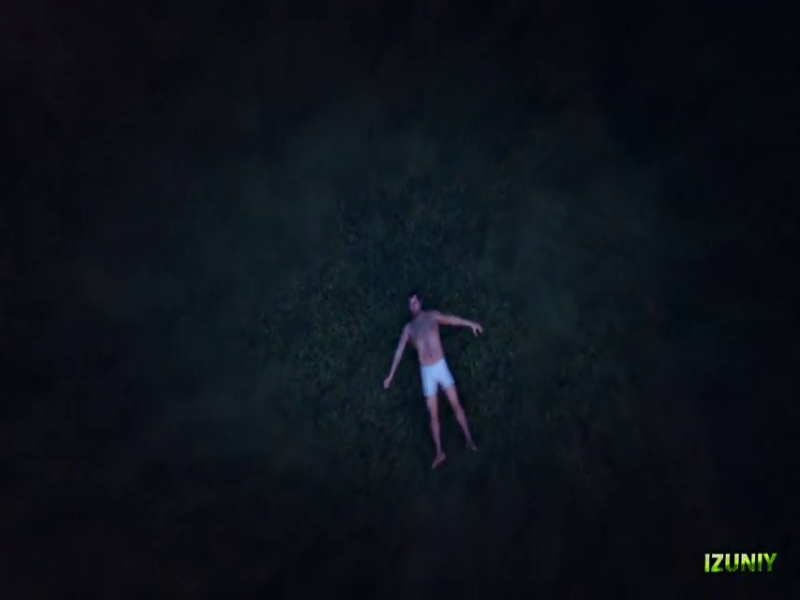human: (388, 294, 482, 459)
